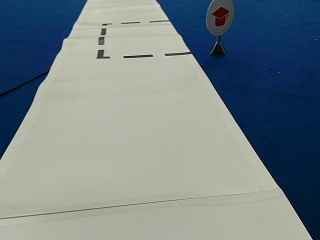school: (205, 1, 234, 35)
